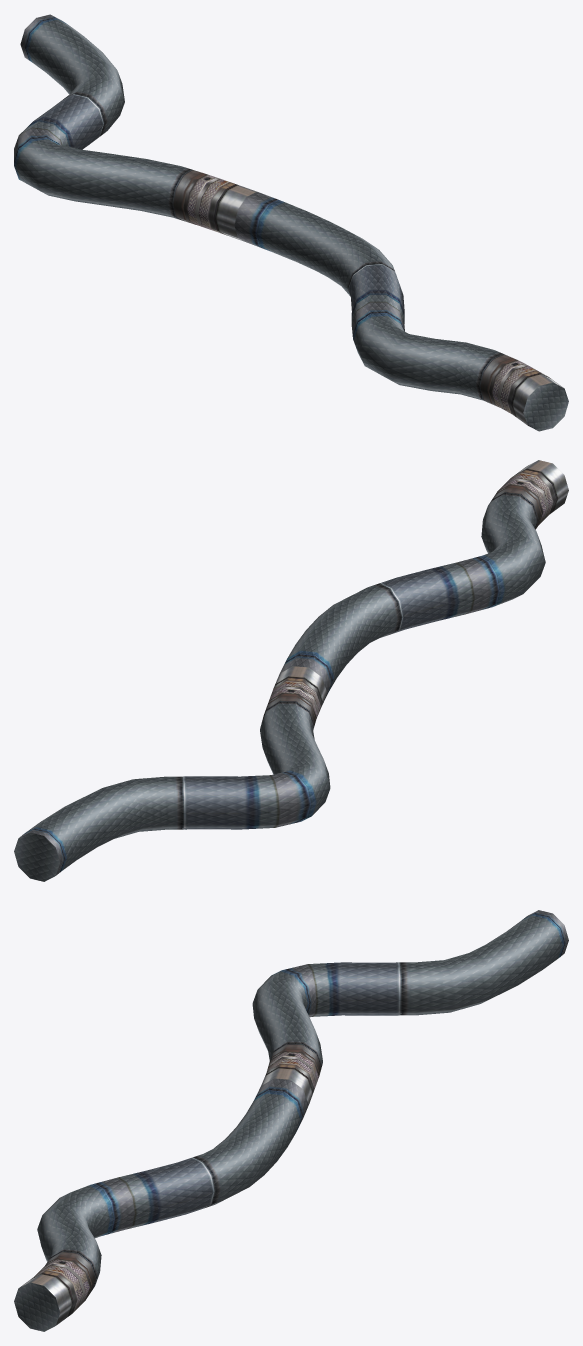
The model's file is SM_Hose2.fbx.
3 views of the same model, one above another, from view 1: azimuth 30°, elevation 25°; view 2: azimuth 150°, elevation 25°; view 3: azimuth 330°, elevation 25° (orthographic).
Parts seen in each view (by area): view 1: SM_Hose2_LOD0; view 2: SM_Hose2_LOD0; view 3: SM_Hose2_LOD0.
Boxes of the visible parts, x1,y1,x2,y2 form: SM_Hose2_LOD0: (14,14,568,431); SM_Hose2_LOD0: (14,460,568,881); SM_Hose2_LOD0: (14,910,568,1331).
Bounding box in the file's own units: 40.9 × 200 × 9.99.
Materials: 1 (1 with a texture image).
